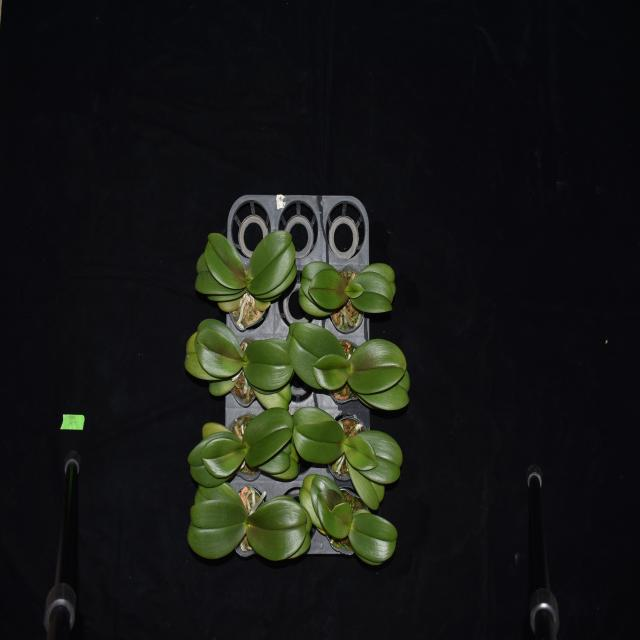leaf: (246, 495, 312, 560), (287, 320, 345, 390), (187, 499, 246, 558), (347, 337, 407, 394), (247, 228, 297, 296), (243, 404, 294, 466), (344, 430, 400, 485), (241, 340, 293, 394), (353, 509, 402, 562), (354, 366, 411, 409), (202, 230, 244, 287), (289, 421, 345, 462), (195, 329, 241, 378), (348, 456, 387, 509), (350, 270, 394, 314), (188, 433, 224, 486), (316, 490, 353, 540), (252, 260, 296, 300), (202, 437, 246, 475), (197, 320, 243, 356), (186, 333, 220, 381), (306, 266, 344, 308), (312, 352, 351, 388), (195, 483, 247, 510), (193, 269, 244, 295), (343, 435, 378, 472), (358, 260, 400, 290), (253, 380, 293, 410), (293, 404, 335, 430), (298, 283, 329, 316), (298, 471, 318, 522), (300, 259, 329, 294), (311, 470, 339, 500), (200, 414, 232, 440), (262, 446, 292, 473), (208, 373, 239, 399), (207, 289, 249, 304), (275, 456, 301, 480), (216, 296, 241, 312), (346, 281, 364, 299), (195, 250, 208, 273), (253, 300, 272, 312), (245, 271, 254, 284), (241, 355, 250, 368)
